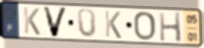0: (76, 8, 98, 40)
H: (158, 11, 183, 44)
K: (103, 9, 123, 40), (22, 6, 42, 37)
O: (133, 11, 157, 42)
V: (41, 5, 69, 38)
